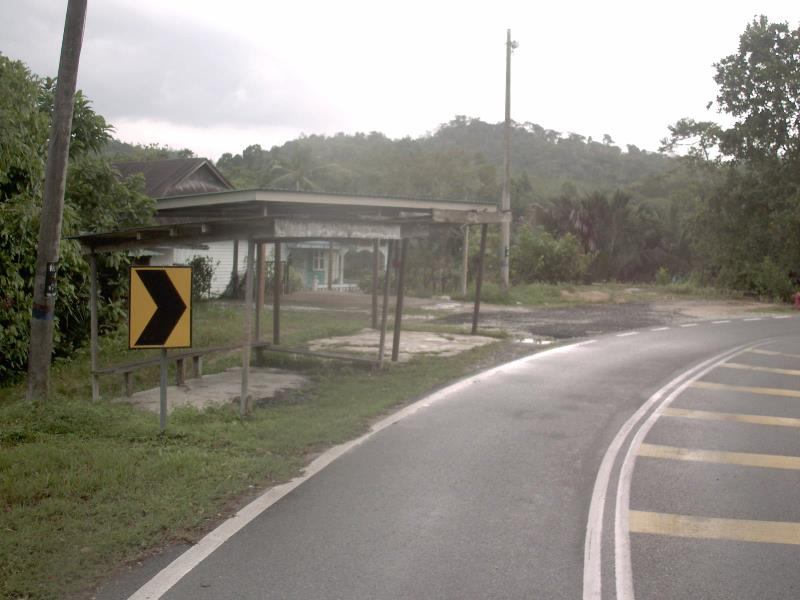traffic_sign: (116, 255, 201, 359)
